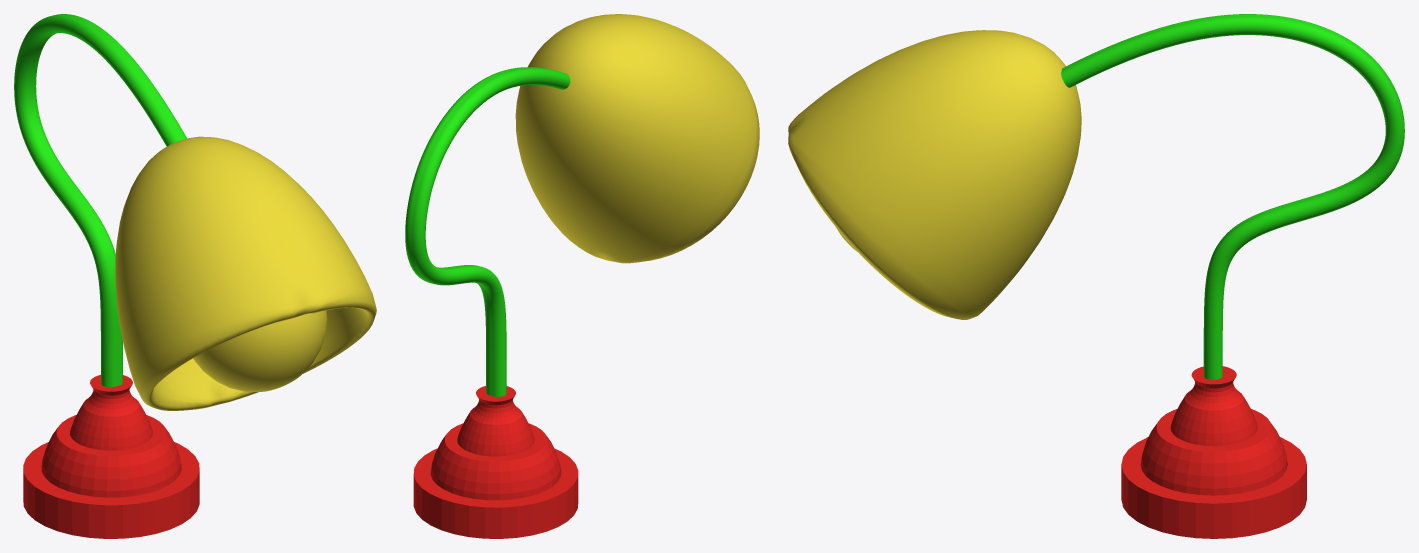
File: lamp.glb
3 views of the same model, side by side, from view 1: azimuth 30°, elevation 25°; view 2: azimuth 150°, elevation 25°; view 3: azimuth 270°, elevation 25° (orthographic). The views are drawn at different scales.
Visible parts, largest first — view 1: Sphere, Cylinder, NurbsPath, Sphere.001; view 2: Sphere, Cylinder, NurbsPath; view 3: Sphere, Cylinder, NurbsPath.
Part boxes in pixels (box(x1,y1,x2,y2)): Sphere: box(115, 136, 376, 410); Cylinder: box(23, 375, 199, 538); NurbsPath: box(14, 14, 186, 387); Sphere.001: box(193, 310, 327, 391); Sphere: box(515, 14, 759, 263); Cylinder: box(413, 386, 578, 538); NurbsPath: box(405, 67, 570, 396); Sphere: box(788, 30, 1081, 319); Cylinder: box(1121, 366, 1306, 538); NurbsPath: box(1061, 14, 1404, 379).
Size of the model in its own units: 4.49 by 8.99 by 10.38.
